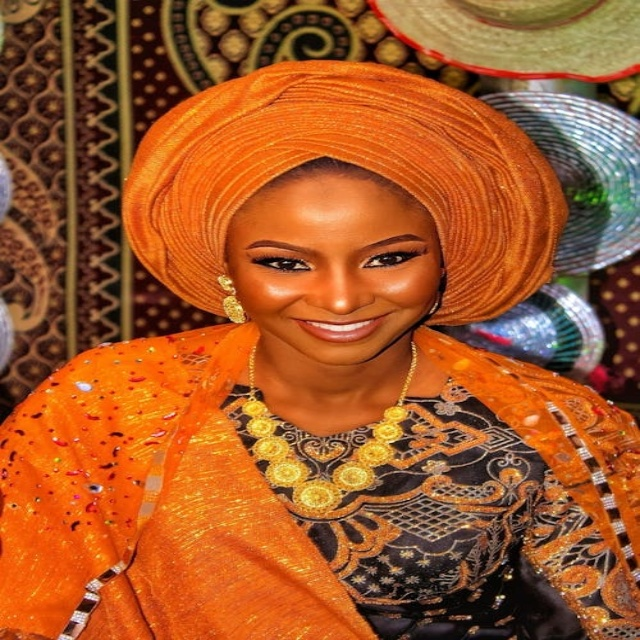Sin_gafas: (229, 231, 433, 282)
Sin_mascara: (278, 309, 401, 360)
